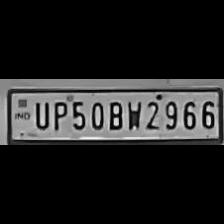0: (88, 98, 104, 130)
2: (142, 98, 160, 130)
5: (68, 98, 86, 132)
6: (199, 97, 217, 129), (180, 98, 196, 130)
9: (160, 98, 178, 130)
B: (105, 98, 123, 130)
P: (49, 98, 67, 130)
U: (32, 98, 50, 130)
W: (123, 97, 141, 131)
